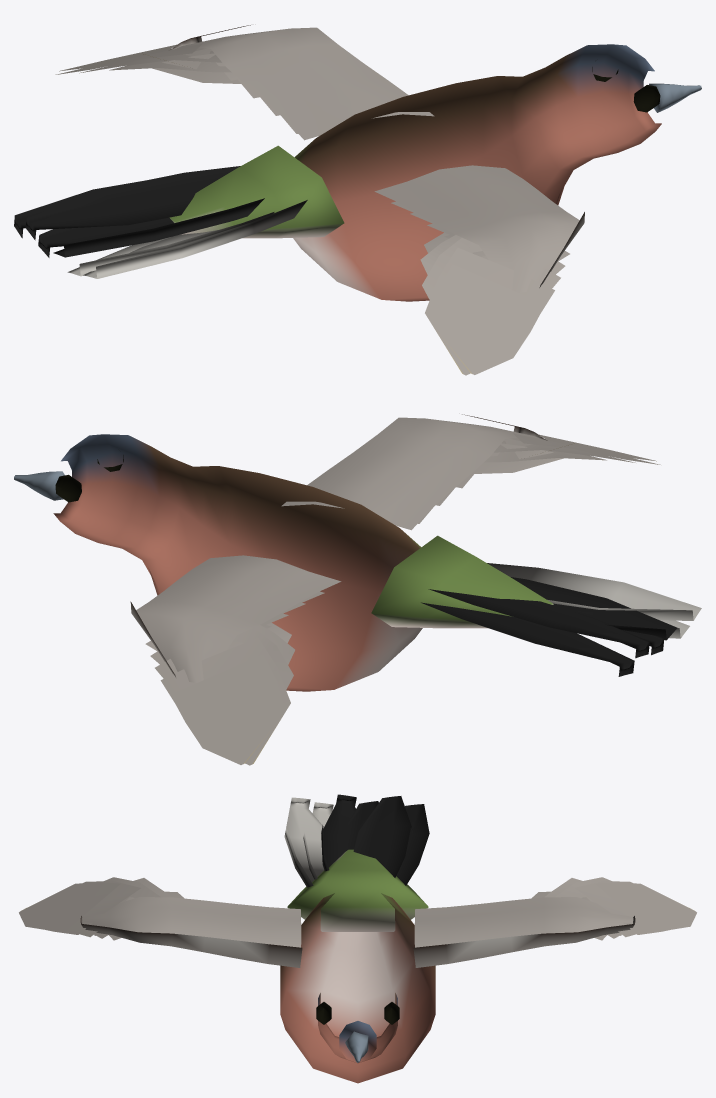
File: SM_Bird_chaffinch_flap3_LOD1.glb
3 renders of one model, top to bottom at view 1: azimuth 30°, elevation 25°; view 2: azimuth 150°, elevation 25°; view 3: azimuth 270°, elevation 25°, orthographic. The views are drawn at different scales.
Parts seen in each view (by area): view 1: SM_Bird_chaffinch_flap3_LOD1; view 2: SM_Bird_chaffinch_flap3_LOD1; view 3: SM_Bird_chaffinch_flap3_LOD1.
Part boxes in pixels (left/top/right/bottom): SM_Bird_chaffinch_flap3_LOD1: left=14, top=25, right=701, bottom=375; SM_Bird_chaffinch_flap3_LOD1: left=14, top=414, right=701, bottom=765; SM_Bird_chaffinch_flap3_LOD1: left=19, top=794, right=696, bottom=1083.
Size of the model in its own units: 0.1715 by 0.0527 by 0.1925.
